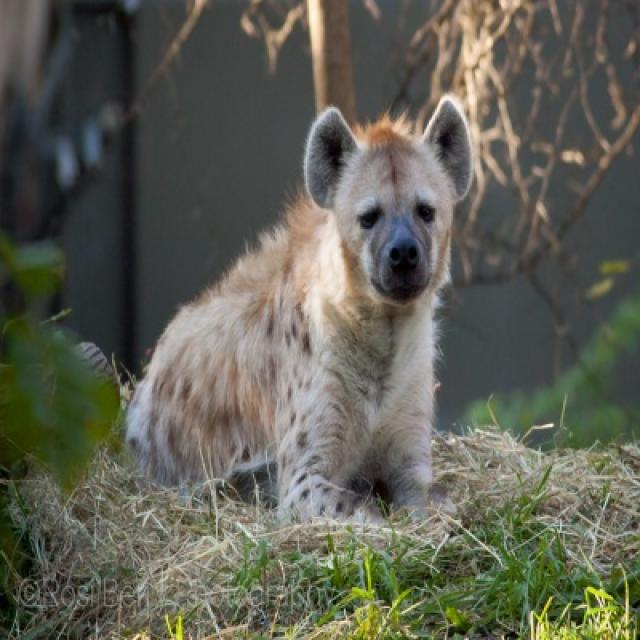hyena: (125, 96, 475, 528)
